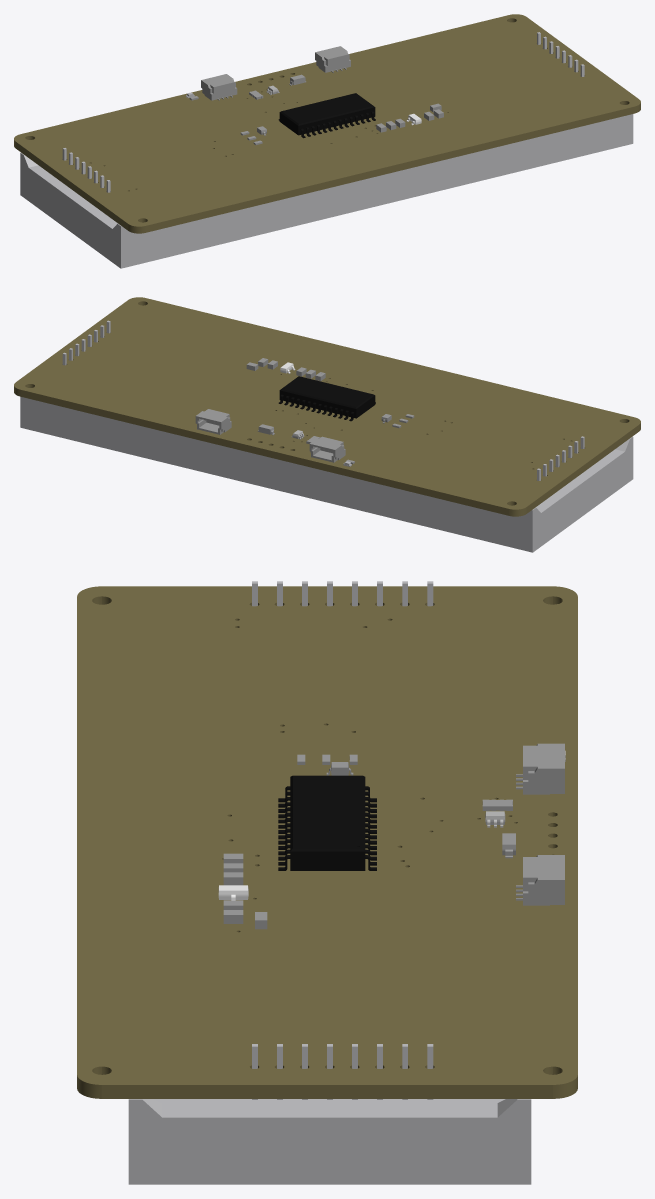
File: ada-1271.glb
The picture shows the model from 3 angles, top to bottom: view 1: azimuth 30°, elevation 25°; view 2: azimuth 150°, elevation 25°; view 3: azimuth 270°, elevation 25°; orthographic projection. The views are drawn at different scales.
Parts seen in each view (by area): view 1: 0.16666666666666666_0.16666666666666666_0.08333333333333333_, 0.5833333333333334_0.5833333333333334_0.5833333333333334_0.8, 0_0_0_0, 0.3333333333333333_0.3333333333333333_0.3333333333333333_0; view 2: 0.16666666666666666_0.16666666666666666_0.08333333333333333_, 0.5833333333333334_0.5833333333333334_0.5833333333333334_0.8, 0_0_0_0, 0.3333333333333333_0.3333333333333333_0.3333333333333333_0; view 3: 0.16666666666666666_0.16666666666666666_0.08333333333333333_, 0.5833333333333334_0.5833333333333334_0.5833333333333334_0.8, 0_0_0_0, 0.3333333333333333_0.3333333333333333_0.3333333333333333_0.
Boxes of the visible parts, bbox=[...] form: 0.16666666666666666_0.16666666666666666_0.08333333333333333_: bbox=[14, 14, 640, 233]; 0.5833333333333334_0.5833333333333334_0.5833333333333334_0.8: bbox=[20, 32, 633, 268]; 0_0_0_0: bbox=[278, 93, 375, 138]; 0.3333333333333333_0.3333333333333333_0.3333333333333333_0: bbox=[189, 46, 443, 145]; 0.16666666666666666_0.16666666666666666_0.08333333333333333_: bbox=[14, 297, 640, 516]; 0.5833333333333334_0.5833333333333334_0.5833333333333334_0.8: bbox=[20, 320, 633, 552]; 0_0_0_0: bbox=[278, 376, 375, 421]; 0.3333333333333333_0.3333333333333333_0.3333333333333333_0: bbox=[195, 358, 414, 464]; 0.16666666666666666_0.16666666666666666_0.08333333333333333_: bbox=[77, 586, 577, 1098]; 0.5833333333333334_0.5833333333333334_0.5833333333333334_0.8: bbox=[128, 581, 565, 1184]; 0_0_0_0: bbox=[278, 775, 376, 870]; 0.3333333333333333_0.3333333333333333_0.3333333333333333_0: bbox=[223, 743, 564, 929].
Size of the model in its own units: 12 by 1.42 by 5.08.
